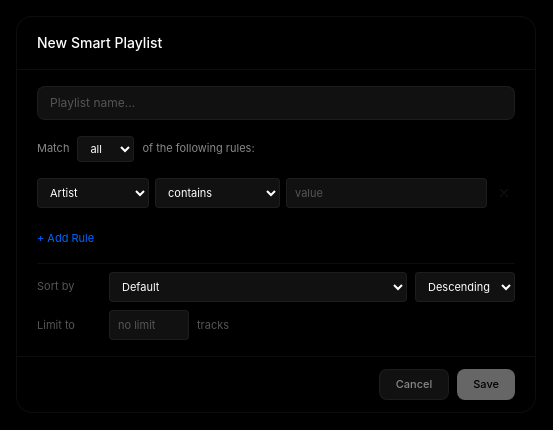
SmartPlaylistEditor › enables Save when name is filled
The image size is (553, 430).
In the field with placeholder "Playlist name...": (276, 102) [37,86,515,120], type "My Playlist"
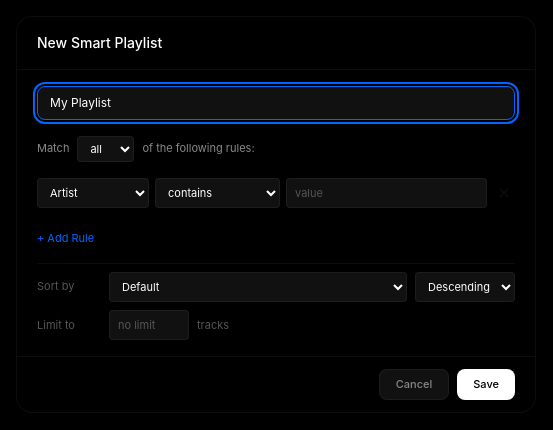
Now the button "Save" is enabled, box [457,369,515,400]
